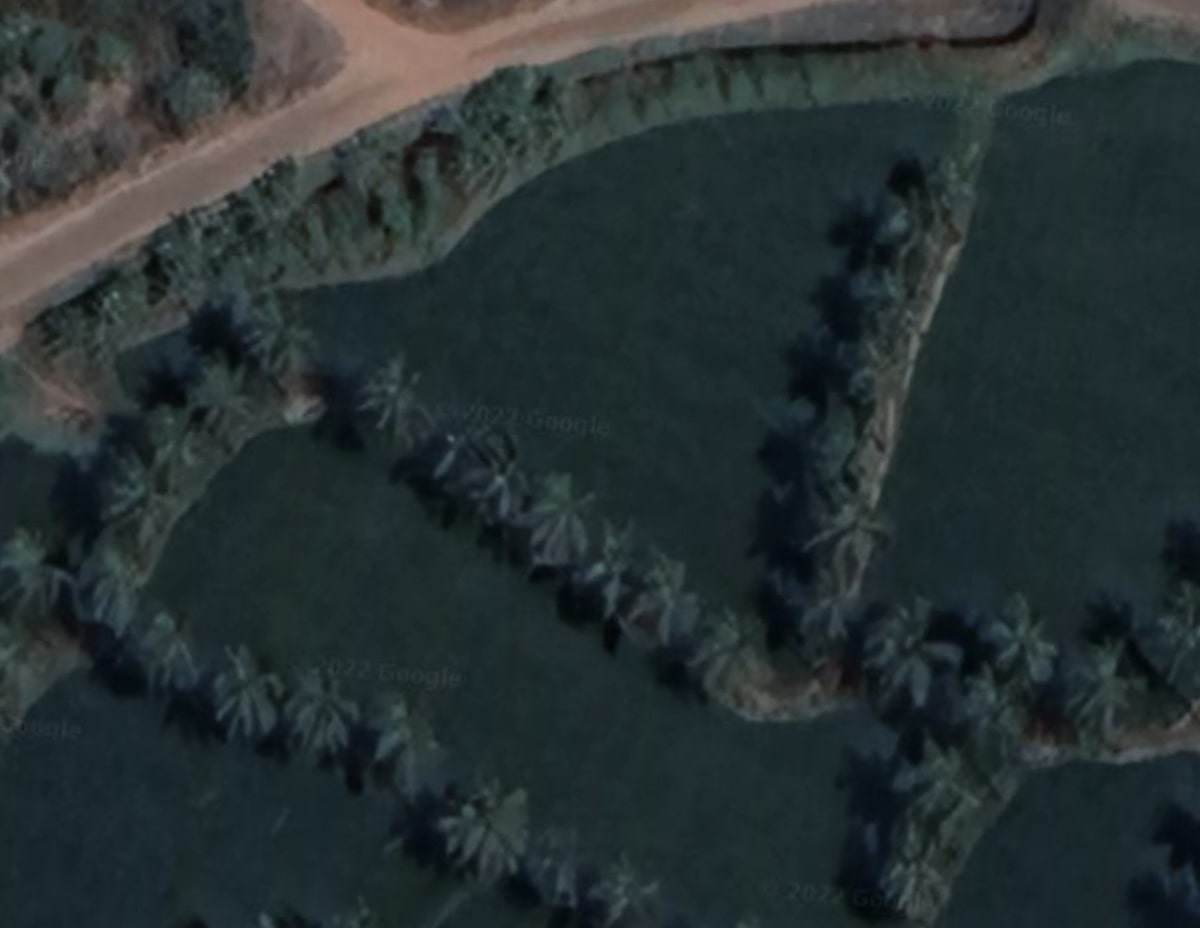coconut: (423, 771, 550, 893), (502, 468, 614, 582), (860, 591, 964, 707), (799, 473, 902, 565), (618, 544, 706, 650), (195, 647, 290, 745), (892, 735, 986, 829), (370, 687, 452, 790), (231, 296, 313, 398), (1059, 647, 1146, 741), (342, 354, 429, 443), (869, 832, 952, 924), (284, 672, 368, 760), (0, 528, 68, 628), (100, 448, 179, 528), (184, 367, 262, 448), (903, 136, 979, 219), (982, 586, 1053, 673), (424, 407, 497, 491), (134, 616, 205, 699), (853, 247, 925, 328), (592, 855, 670, 928)
